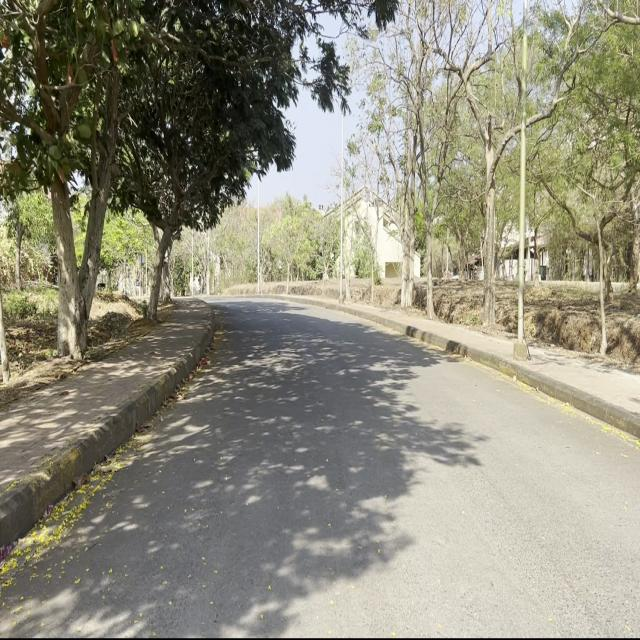Road: (17, 300, 637, 630)
